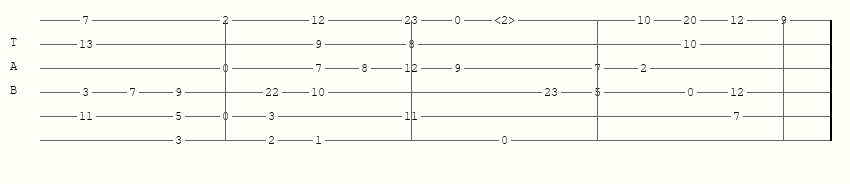0: (222, 110, 233, 122), (222, 62, 233, 74), (454, 14, 465, 26), (501, 134, 512, 146), (687, 86, 698, 98)
1: (315, 134, 326, 146)
10: (311, 86, 329, 98), (637, 14, 655, 26), (683, 38, 701, 50)
11: (79, 110, 97, 122), (404, 110, 422, 122)
12: (311, 14, 329, 26), (404, 62, 422, 74), (730, 14, 748, 26), (730, 86, 748, 98)
13: (79, 38, 97, 50)
2: (222, 14, 233, 26), (268, 134, 279, 146), (640, 62, 651, 74)
20: (683, 14, 701, 26)
22: (265, 86, 283, 98)
23: (404, 14, 422, 26), (544, 86, 562, 98)
3: (82, 86, 93, 98), (175, 134, 186, 146), (268, 110, 279, 122)
5: (175, 110, 186, 122), (594, 86, 605, 98)
7: (82, 14, 93, 26), (129, 86, 140, 98), (315, 62, 326, 74), (594, 62, 605, 74), (733, 110, 744, 122)
8: (361, 62, 372, 74), (408, 38, 419, 50)
9: (175, 86, 186, 98), (315, 38, 326, 50), (454, 62, 465, 74), (780, 14, 791, 26)
harmonic: (494, 14, 519, 27)
